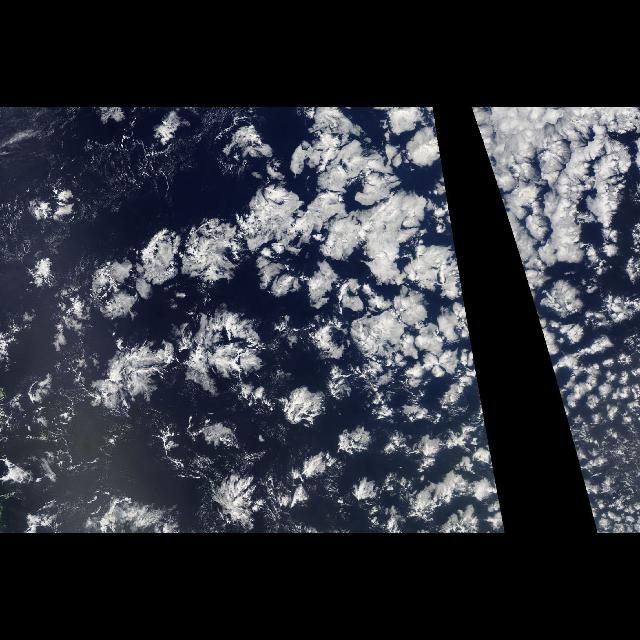Flower: (48, 108, 504, 522), (470, 108, 640, 522)
